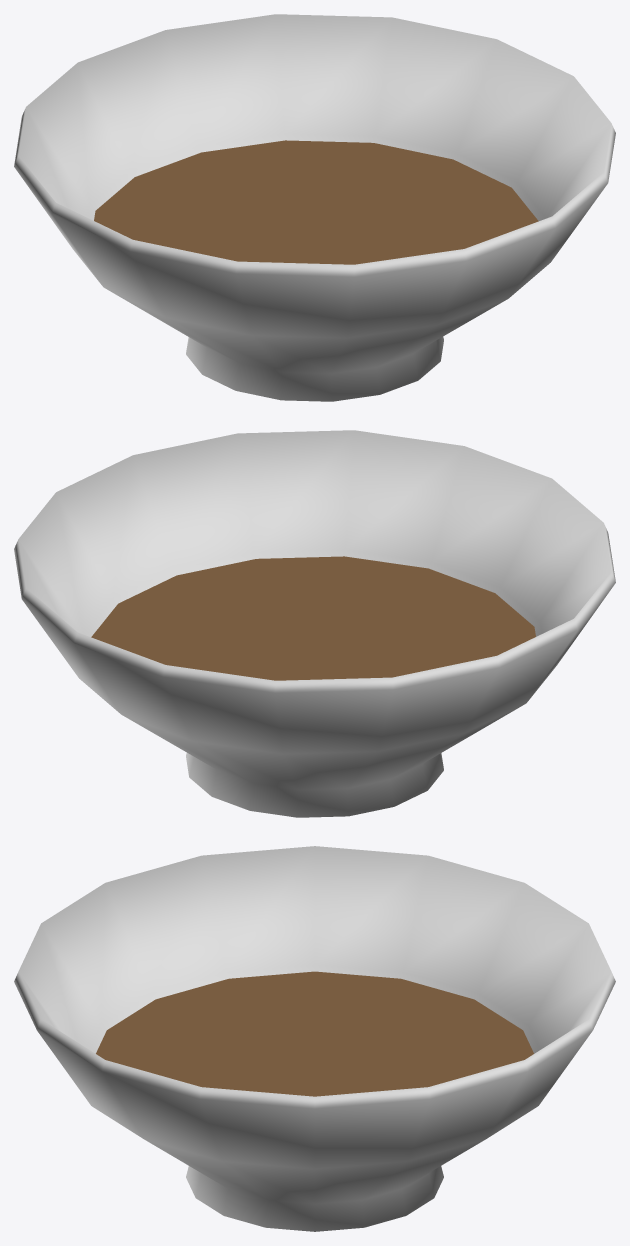
Rendered from noodles.fbx.
3 views of the same model, one above another, from view 1: azimuth 30°, elevation 25°; view 2: azimuth 150°, elevation 25°; view 3: azimuth 270°, elevation 25° (orthographic).
Visible parts, largest first — view 1: Noodles; view 2: Noodles; view 3: Noodles.
Part boxes in pixels (box(x1,y1,x2,y2)): Noodles: box(14, 14, 615, 401); Noodles: box(14, 430, 615, 817); Noodles: box(14, 846, 615, 1231).
Size of the model in its own units: 20.29 by 7.66 by 20.29.
